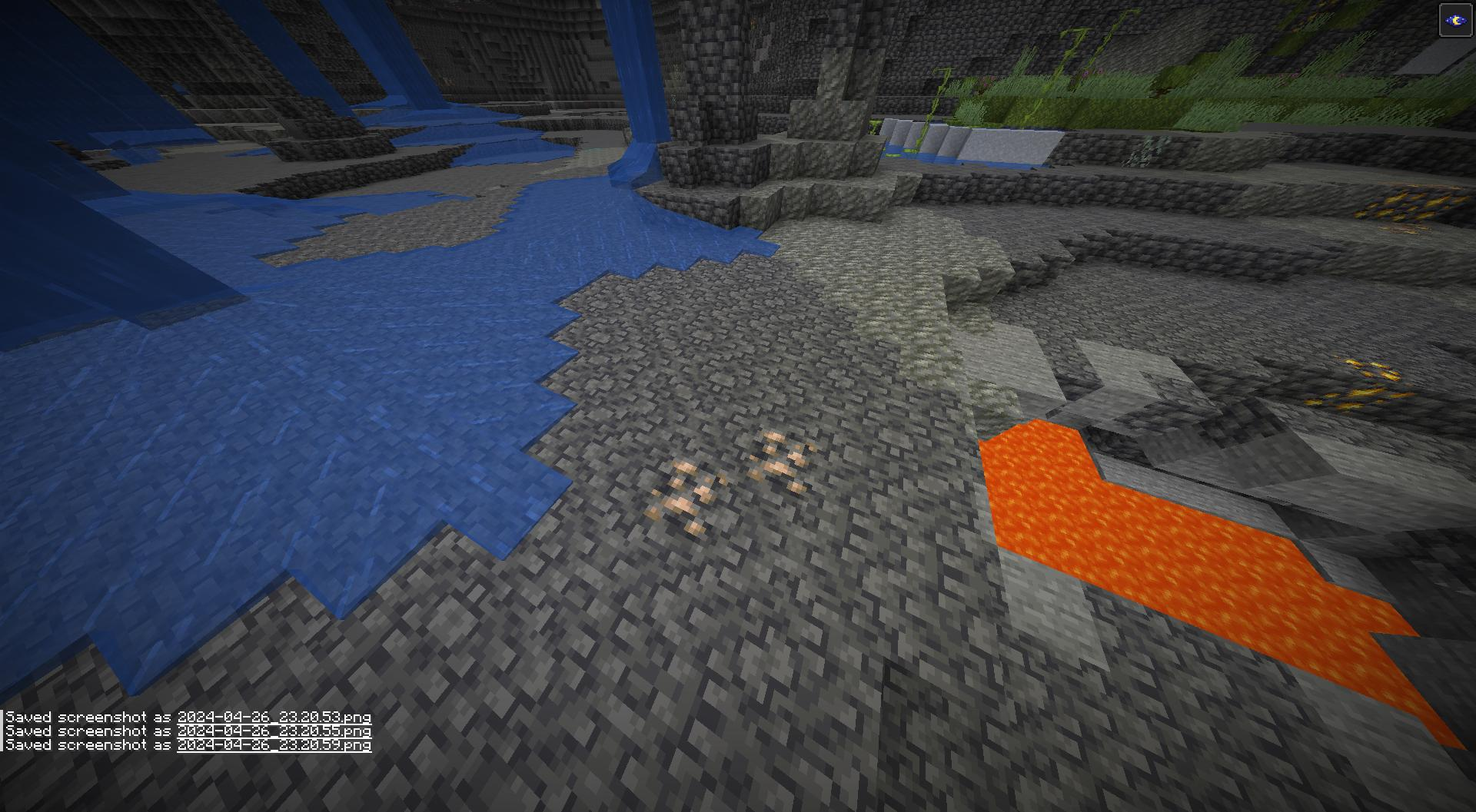gold ore: (1361, 176, 1462, 236), (1324, 351, 1406, 417)
iron ore: (653, 462, 727, 536), (749, 428, 815, 493)
